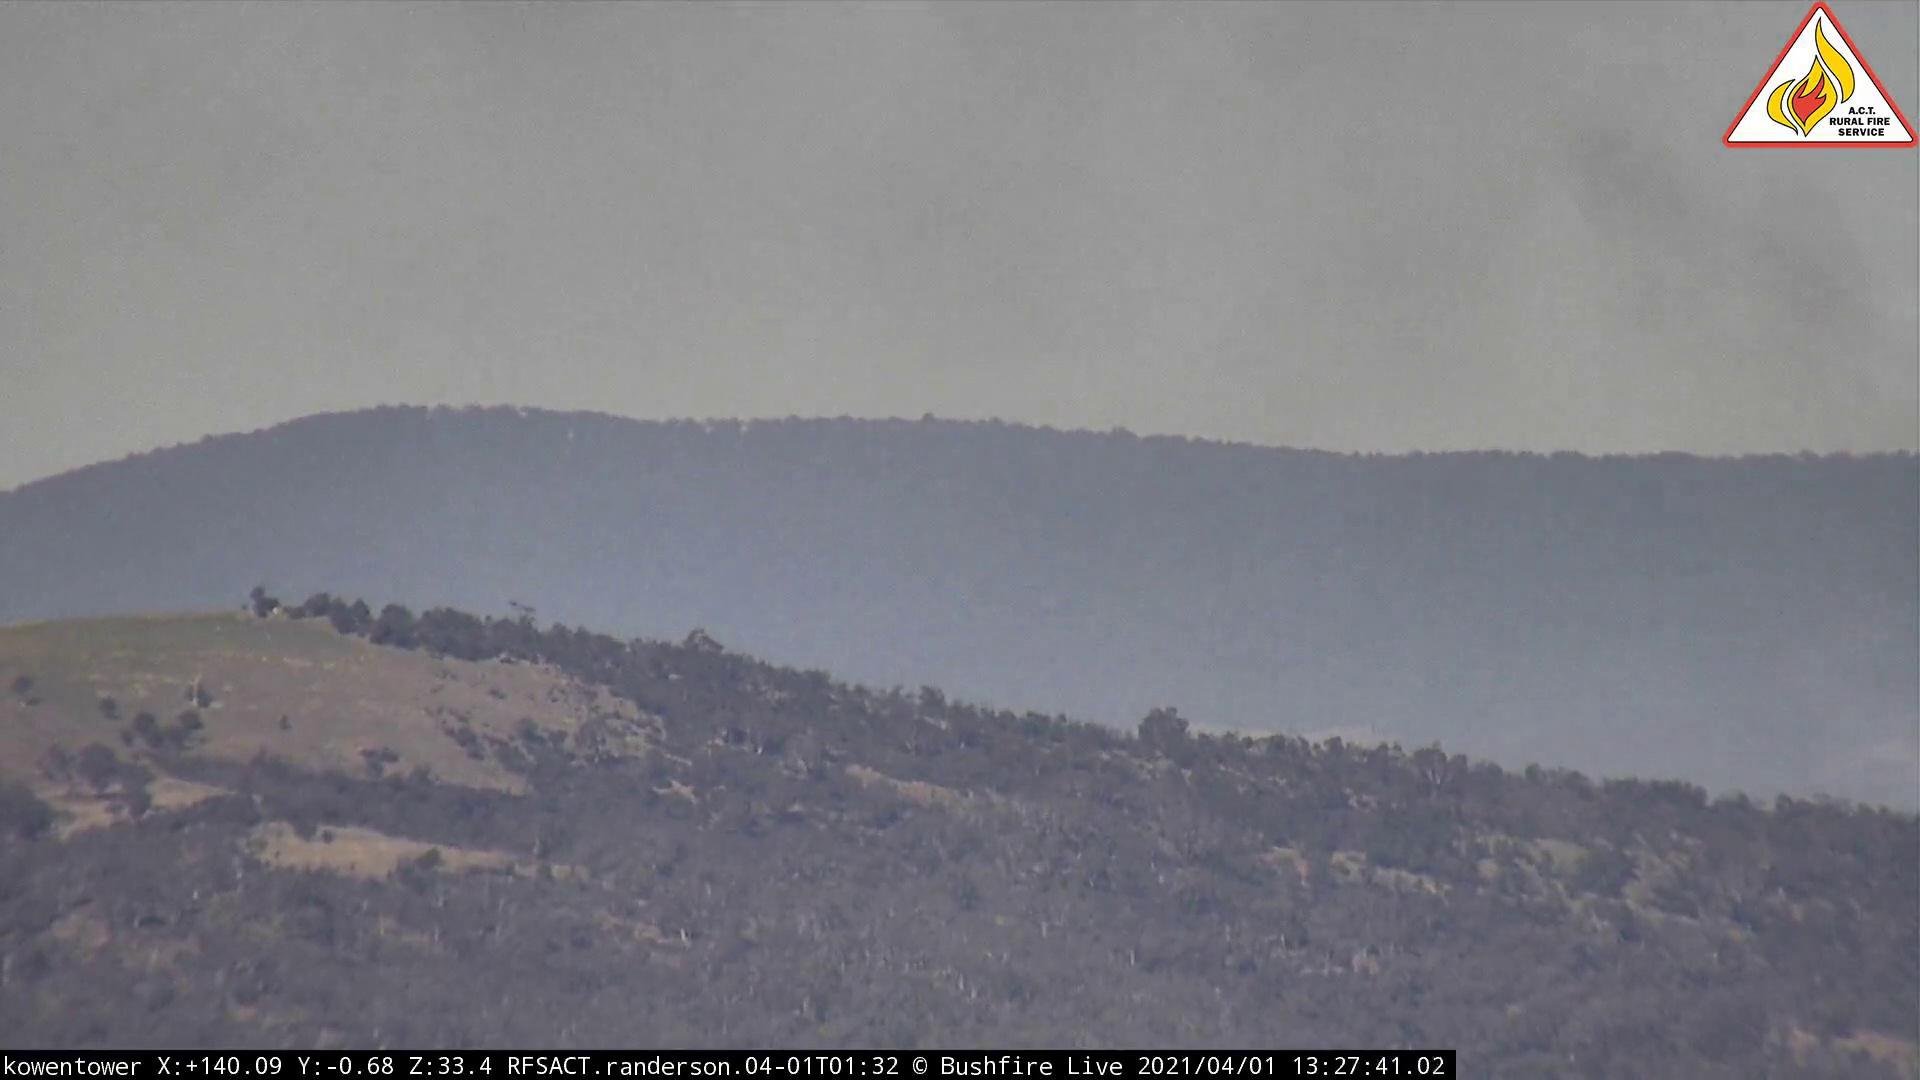instance_salient_object: (1178, 171, 1920, 512)
